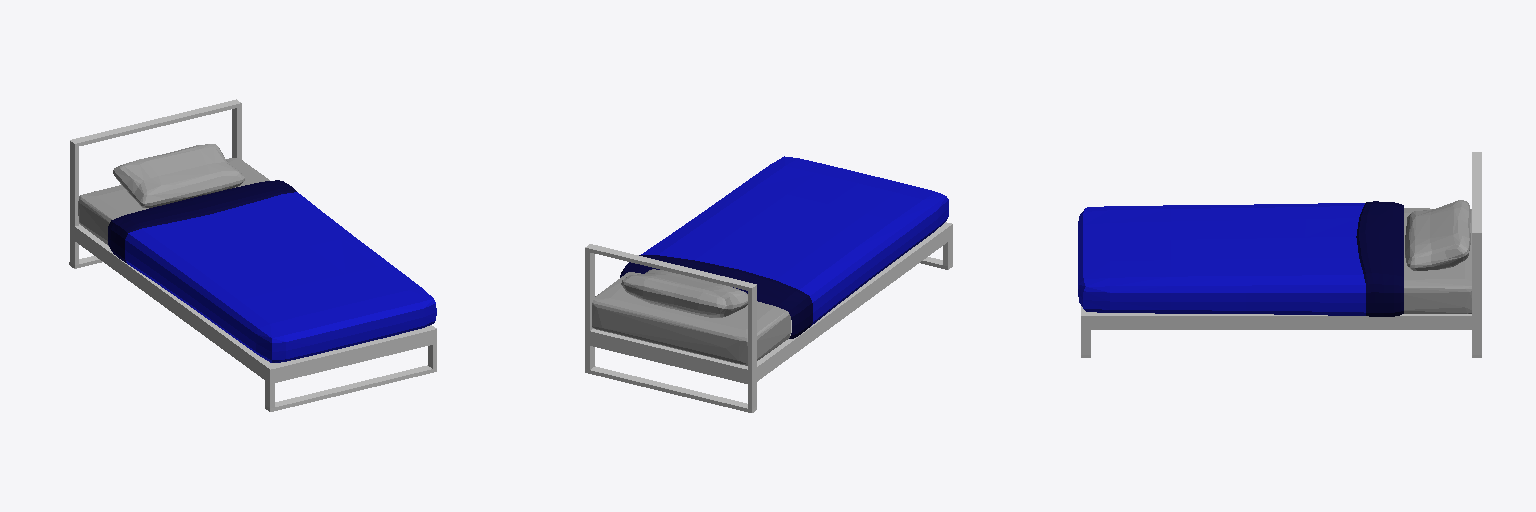
File: lozko.obj
3 renders of one model, left to right at view 1: azimuth 30°, elevation 25°; view 2: azimuth 150°, elevation 25°; view 3: azimuth 270°, elevation 25°, orthographic.
Parts seen in each view (by area): view 1: Bed_Single.004_Cube.004, Bed_Single.001_Cube.001, Bed_Single_Cube.044; view 2: Bed_Single.004_Cube.004, Bed_Single_Cube.044, Bed_Single.001_Cube.001; view 3: Bed_Single.004_Cube.004, Bed_Single.001_Cube.001, Bed_Single_Cube.044.
Part boxes in pixels (bbox=[...]): Bed_Single.004_Cube.004: bbox=[108, 180, 436, 362]; Bed_Single.001_Cube.001: bbox=[69, 99, 436, 411]; Bed_Single_Cube.044: bbox=[78, 144, 269, 245]; Bed_Single.004_Cube.004: bbox=[620, 156, 948, 338]; Bed_Single_Cube.044: bbox=[592, 269, 790, 365]; Bed_Single.001_Cube.001: bbox=[585, 222, 952, 412]; Bed_Single.004_Cube.004: bbox=[1078, 201, 1403, 316]; Bed_Single.001_Cube.001: bbox=[1081, 152, 1481, 357]; Bed_Single_Cube.044: bbox=[1404, 200, 1471, 313].
Bounding box in the file's own units: 2.01 × 1.35 × 3.97.